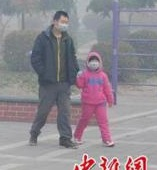person: (28, 10, 80, 148), (73, 51, 115, 148)
